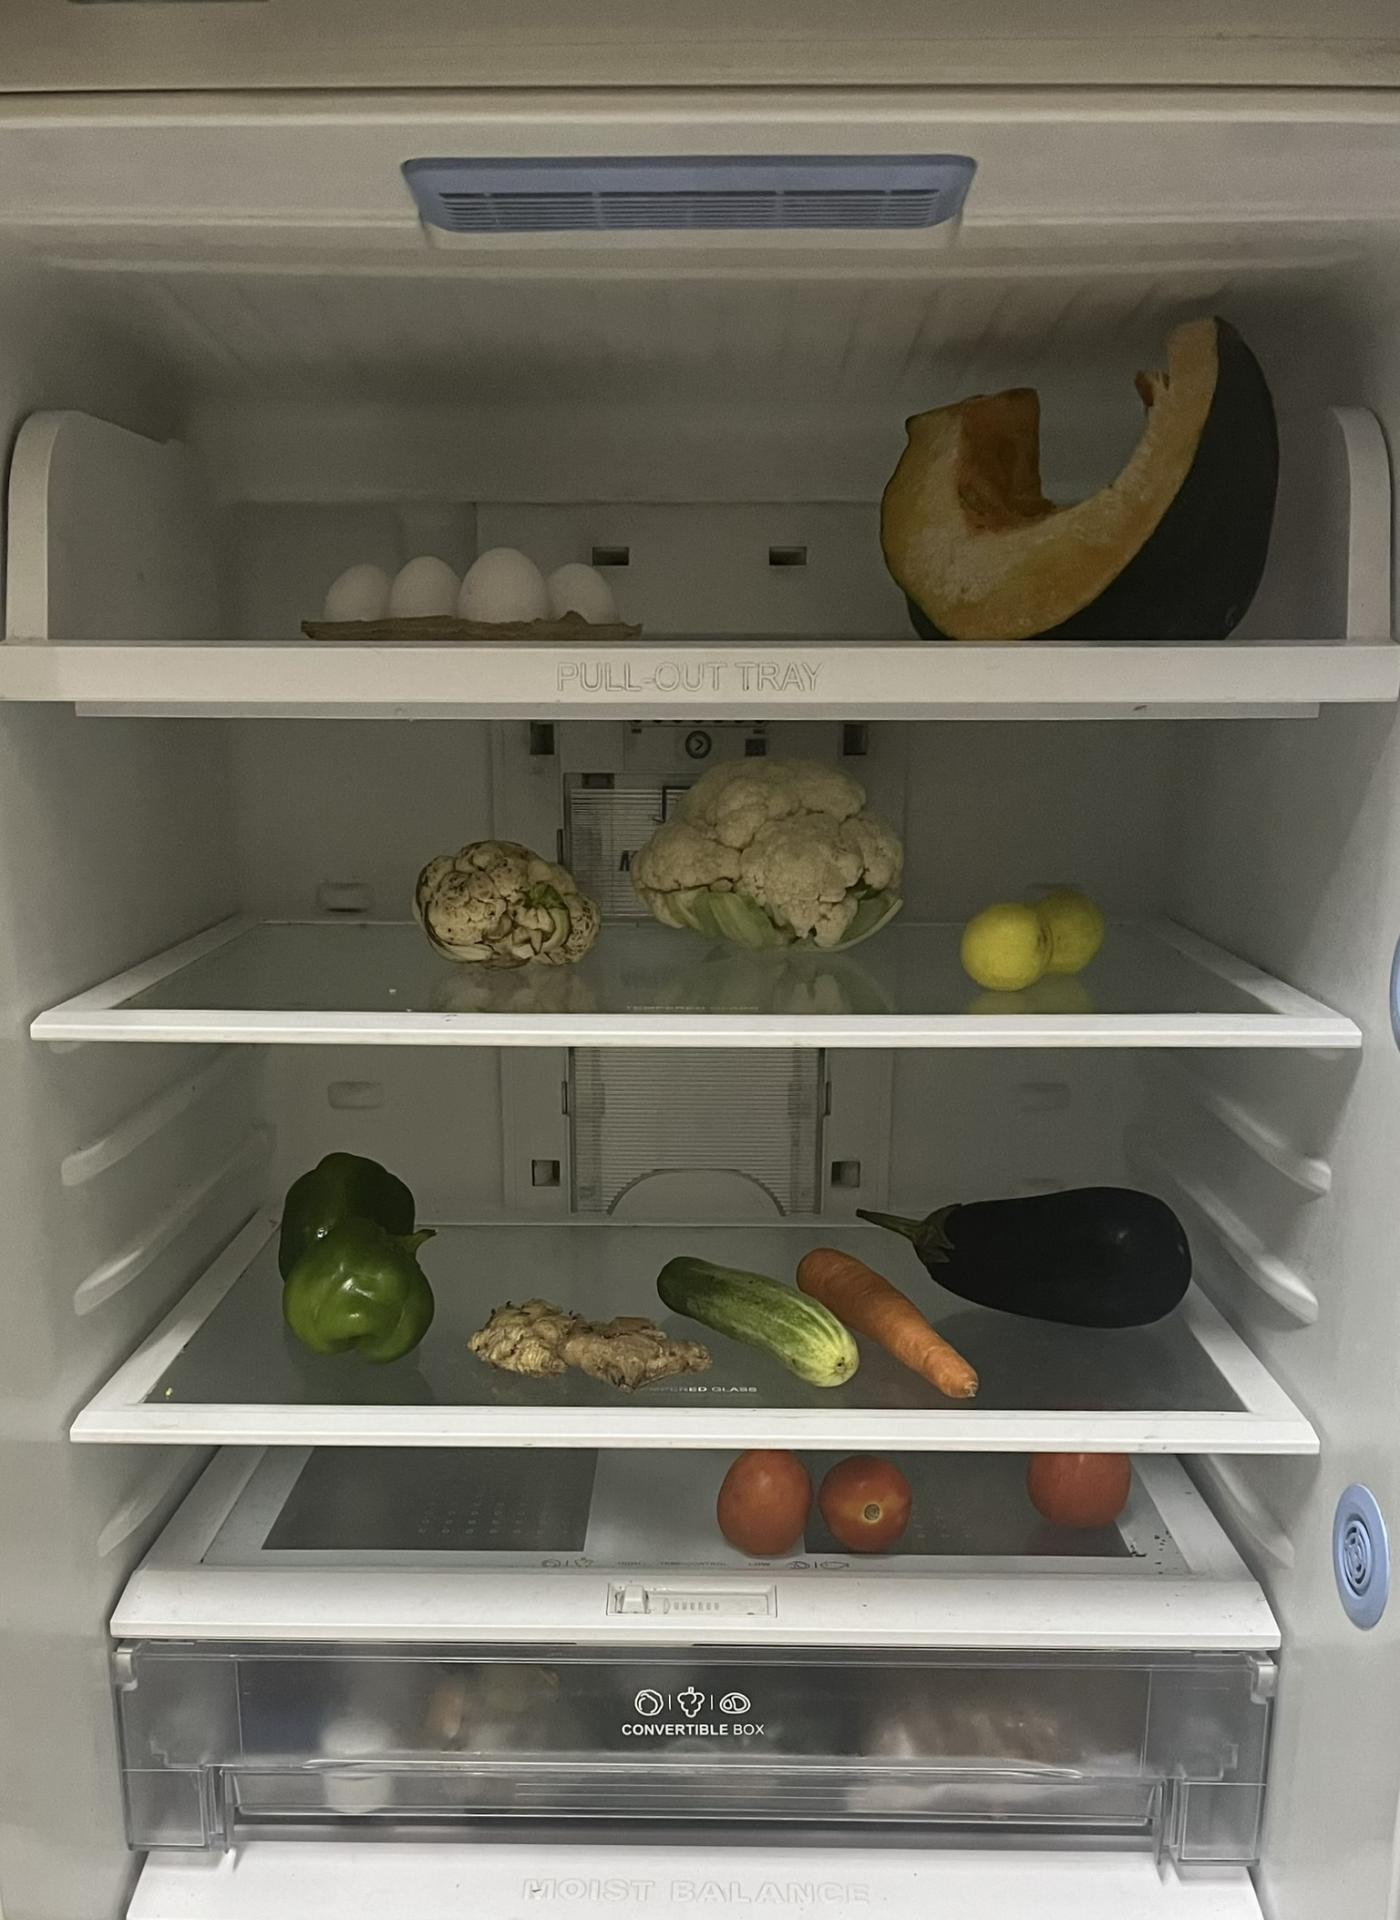brinjal: (850, 1190, 1193, 1325)
capsicum: (276, 1152, 432, 1365)
carrots: (802, 1237, 983, 1406)
cauliflower: (637, 754, 908, 941), (419, 844, 605, 967)
cucumber: (655, 1254, 857, 1389)
egg: (318, 538, 608, 625)
ginger: (471, 1301, 708, 1388)
lemon: (957, 885, 1111, 988)
pumpkin: (877, 318, 1282, 642)
tomato: (714, 1452, 911, 1558), (1026, 1453, 1141, 1535)
